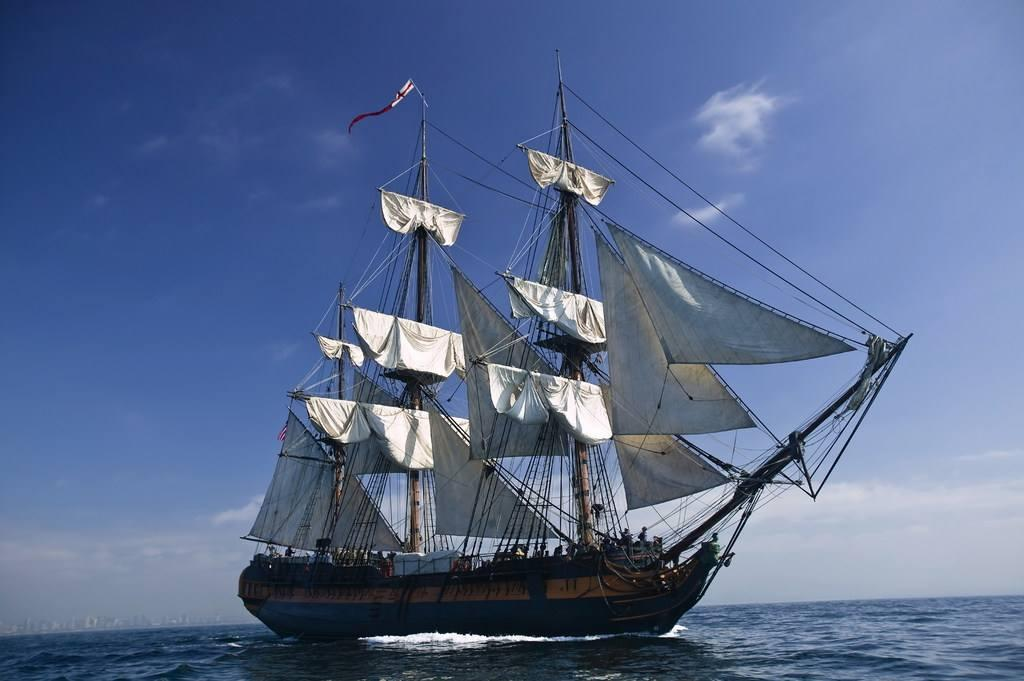fanchuan: (239, 46, 915, 646)
